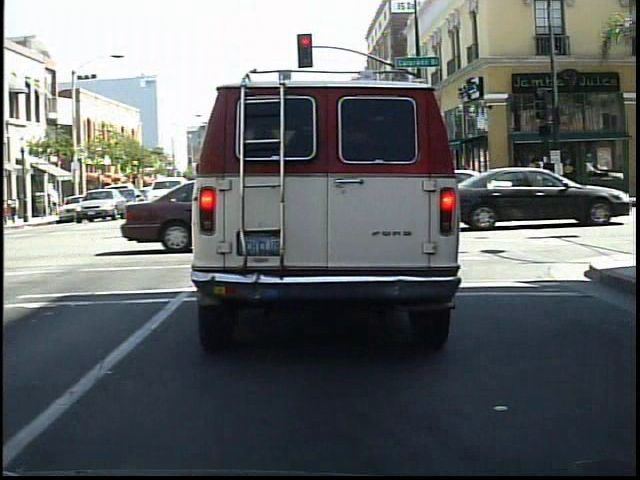person: (538, 153, 559, 205), (511, 159, 531, 205)
